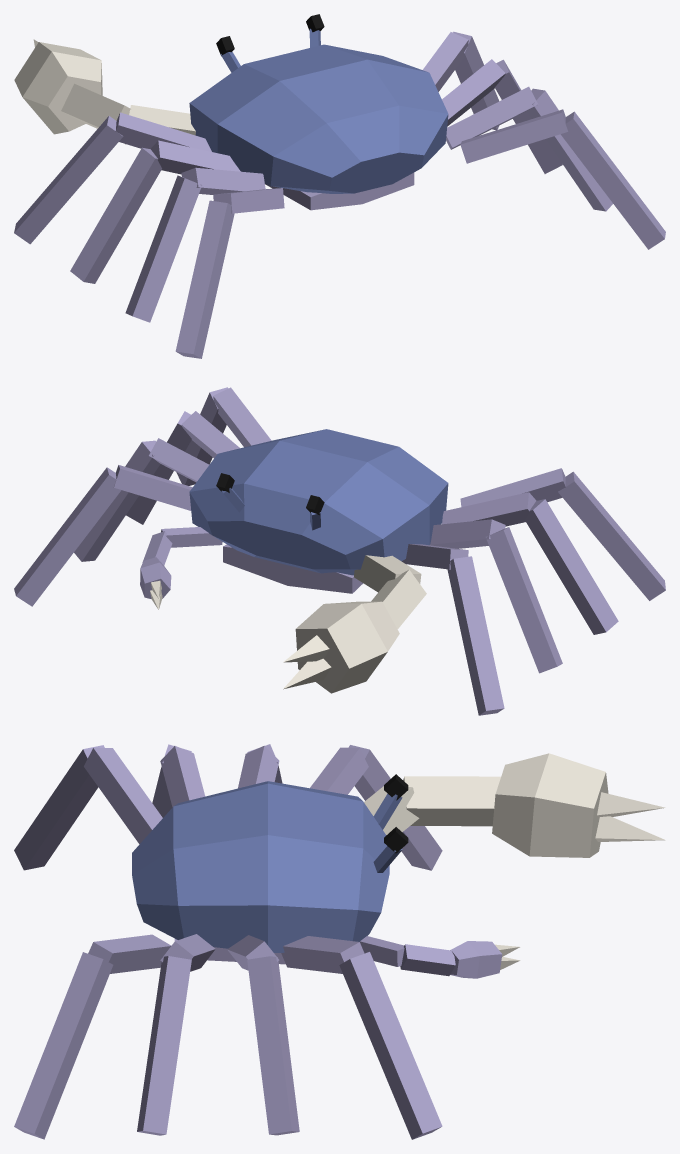
The model's file is guaiamum.glb.
The picture shows the model from 3 angles, top to bottom: view 1: azimuth 30°, elevation 25°; view 2: azimuth 150°, elevation 25°; view 3: azimuth 270°, elevation 25°; orthographic projection. The views are drawn at different scales.
Parts seen in each view (by area): view 1: corpo; view 2: corpo; view 3: corpo.
Boxes of the visible parts, x1,y1,x2,y2 form: corpo: (14,14,665,358); corpo: (14,387,665,715); corpo: (14,744,665,1139).
Bounding box in the file's own units: 1 × 0.3249 × 0.9573.
